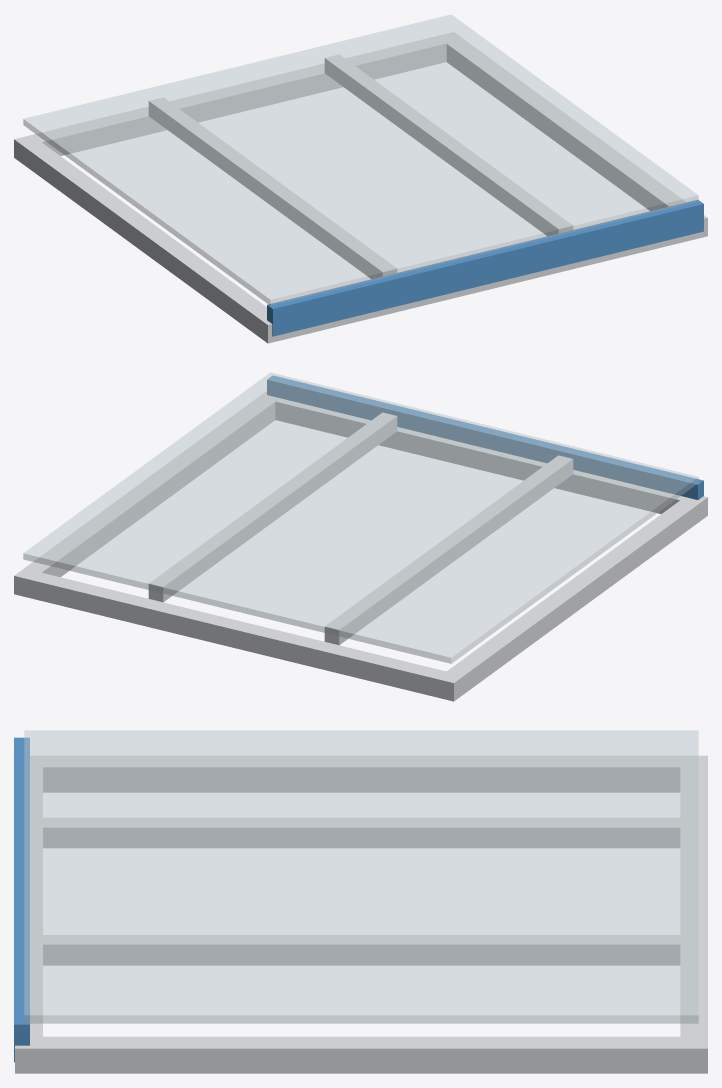
Rendered from boarding-kennels-and-cattery-boarding-kennels-and-catt-2af7cfa9__35536.glb.
The picture shows the model from 3 angles, top to bottom: view 1: azimuth 30°, elevation 25°; view 2: azimuth 150°, elevation 25°; view 3: azimuth 270°, elevation 25°; orthographic projection. The views are drawn at different scales.
Visible parts, largest first — view 1: boarding-kennels-and-cattery-run-roof-section; view 2: boarding-kennels-and-cattery-run-roof-section; view 3: boarding-kennels-and-cattery-run-roof-section.
Part boxes in pixels (box(x1,y1,x2,y2)): boarding-kennels-and-cattery-run-roof-section: box(14, 14, 707, 343); boarding-kennels-and-cattery-run-roof-section: box(14, 372, 707, 701); boarding-kennels-and-cattery-run-roof-section: box(14, 730, 707, 1073).
Bounding box in the file's own units: 1.5 × 0.13 × 1.5.
